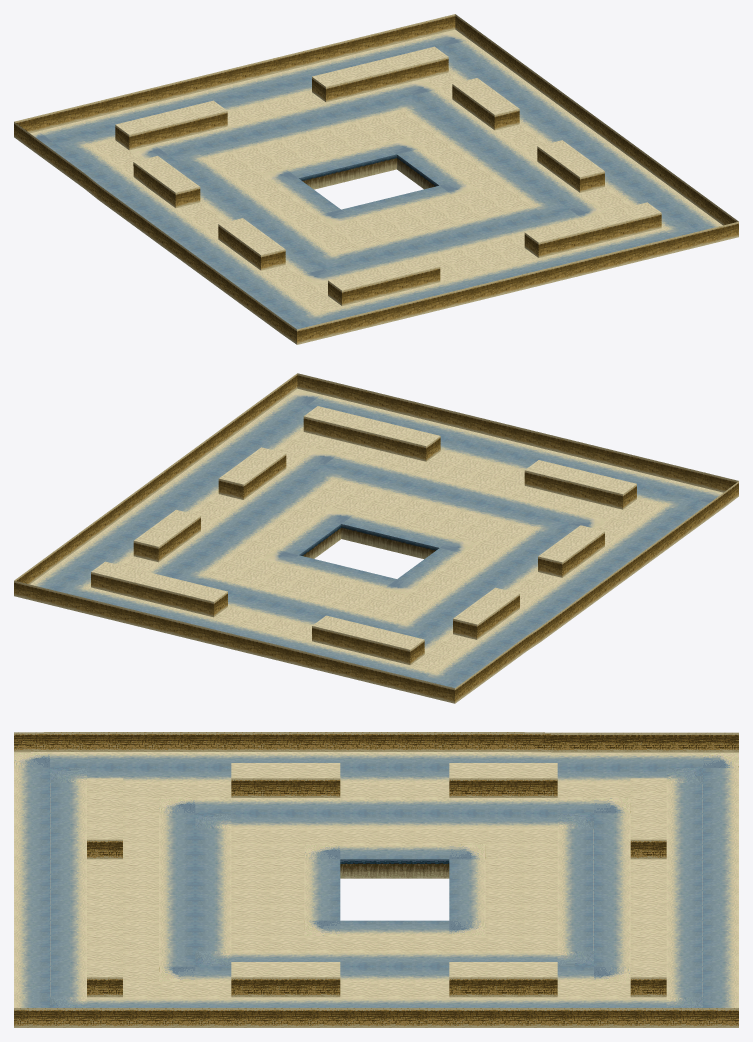
The model's file is Desert Storm (no vertex colors).obj.
3 renders of one model, top to bottom at view 1: azimuth 30°, elevation 25°; view 2: azimuth 150°, elevation 25°; view 3: azimuth 270°, elevation 25°, orthographic. The views are drawn at different scales.
Parts seen in each view (by area): view 1: Desert_Storm; view 2: Desert_Storm; view 3: Desert_Storm.
Part boxes in pixels (x1,y1,x2,y2): Desert_Storm: [14, 14, 738, 344]; Desert_Storm: [14, 373, 738, 703]; Desert_Storm: [14, 732, 738, 1027].
Bounding box in the file's own units: 922 × 61 × 1024.
Materials: 7 (7 with a texture image).
